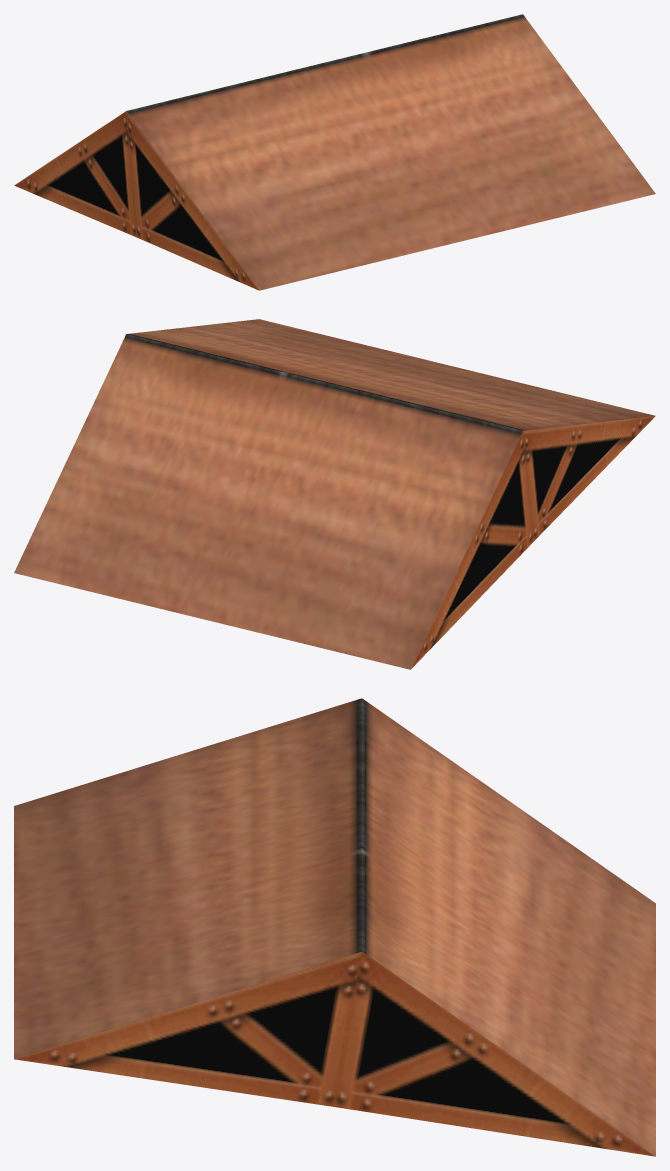
The model's file is truss02.glb.
The picture shows the model from 3 angles, top to bottom: view 1: azimuth 30°, elevation 25°; view 2: azimuth 150°, elevation 25°; view 3: azimuth 270°, elevation 25°; orthographic projection. The views are drawn at different scales.
Visible parts, largest first — view 1: truss02; view 2: truss02; view 3: truss02.
Part boxes in pixels (x1,y1,x2,y2): truss02: (14,14,655,290); truss02: (14,319,655,669); truss02: (14,698,655,1156).
Size of the model in its own units: 1309 by 495 by 1402.
2 materials, 2 textured.
